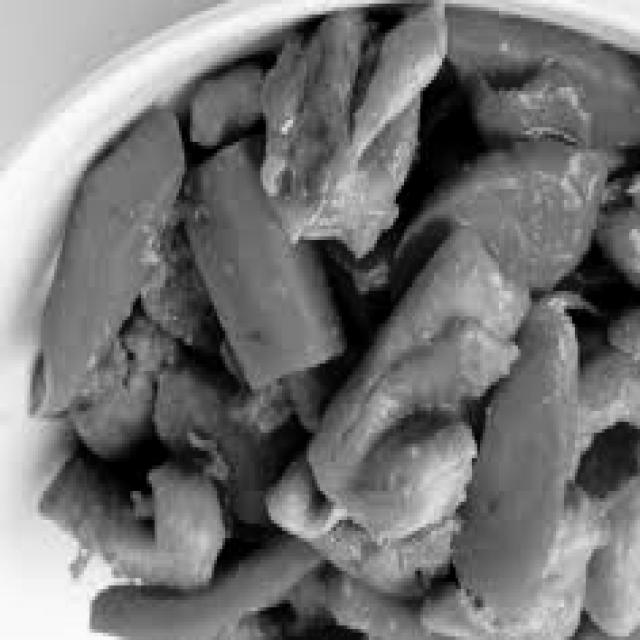wortel: (391, 1, 640, 295), (166, 142, 338, 402), (39, 110, 166, 425), (468, 284, 569, 620), (84, 542, 323, 640)
